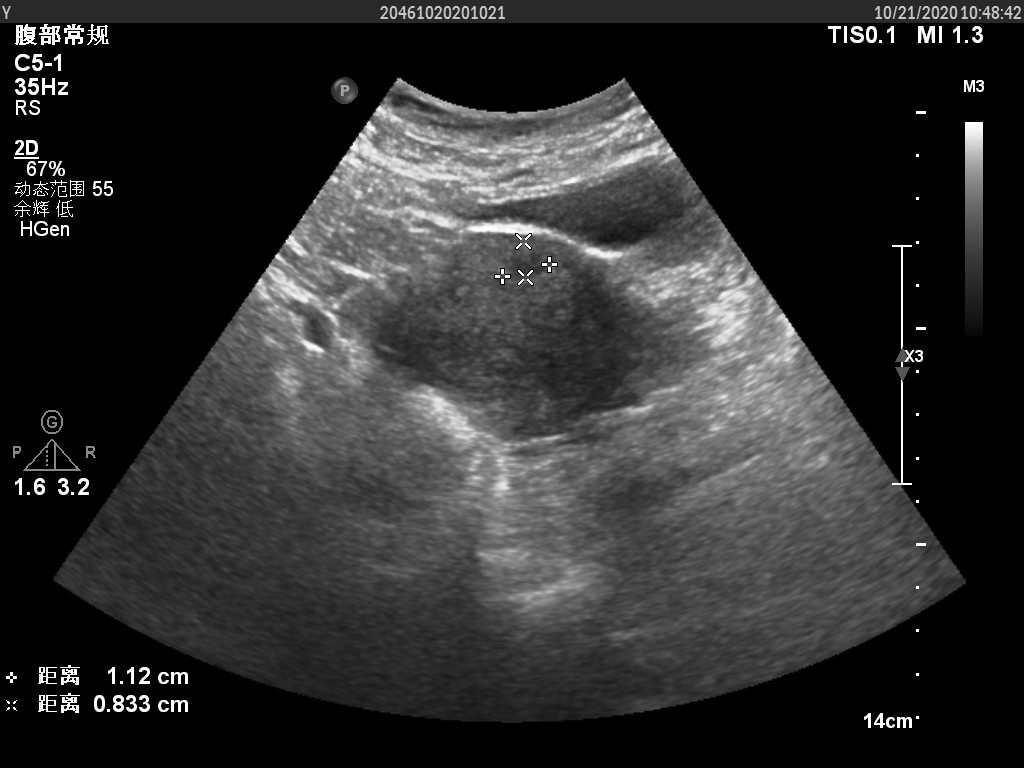肌瘤: (511, 255, 546, 278)
